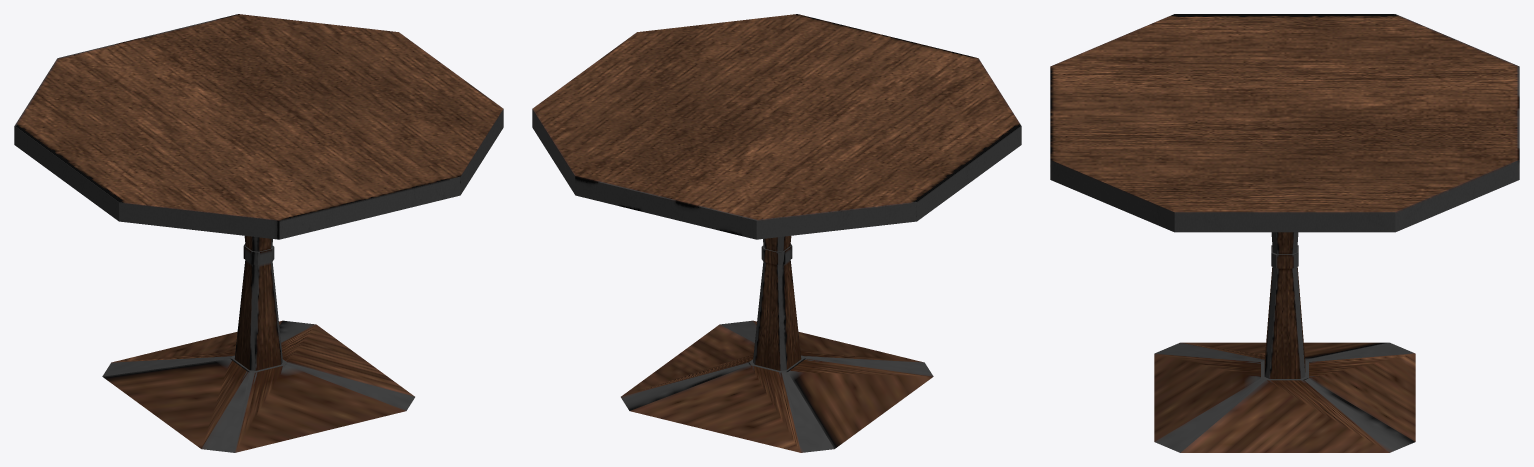
Rendered from Mesa.fbx.
The picture shows the model from 3 angles, left to right: view 1: azimuth 30°, elevation 25°; view 2: azimuth 150°, elevation 25°; view 3: azimuth 270°, elevation 25°; orthographic projection. The views are drawn at different scales.
Parts seen in each view (by area): view 1: Chimenea.001; view 2: Chimenea.001; view 3: Chimenea.001.
Boxes of the visible parts, x1,y1,x2,y2 form: Chimenea.001: (14,14,503,452); Chimenea.001: (532,14,1021,452); Chimenea.001: (1050,14,1519,452).
Bounding box in the file's own units: 180 × 121 × 180.
